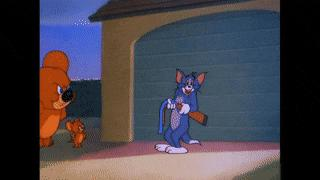jerry: (66, 118, 87, 150)
